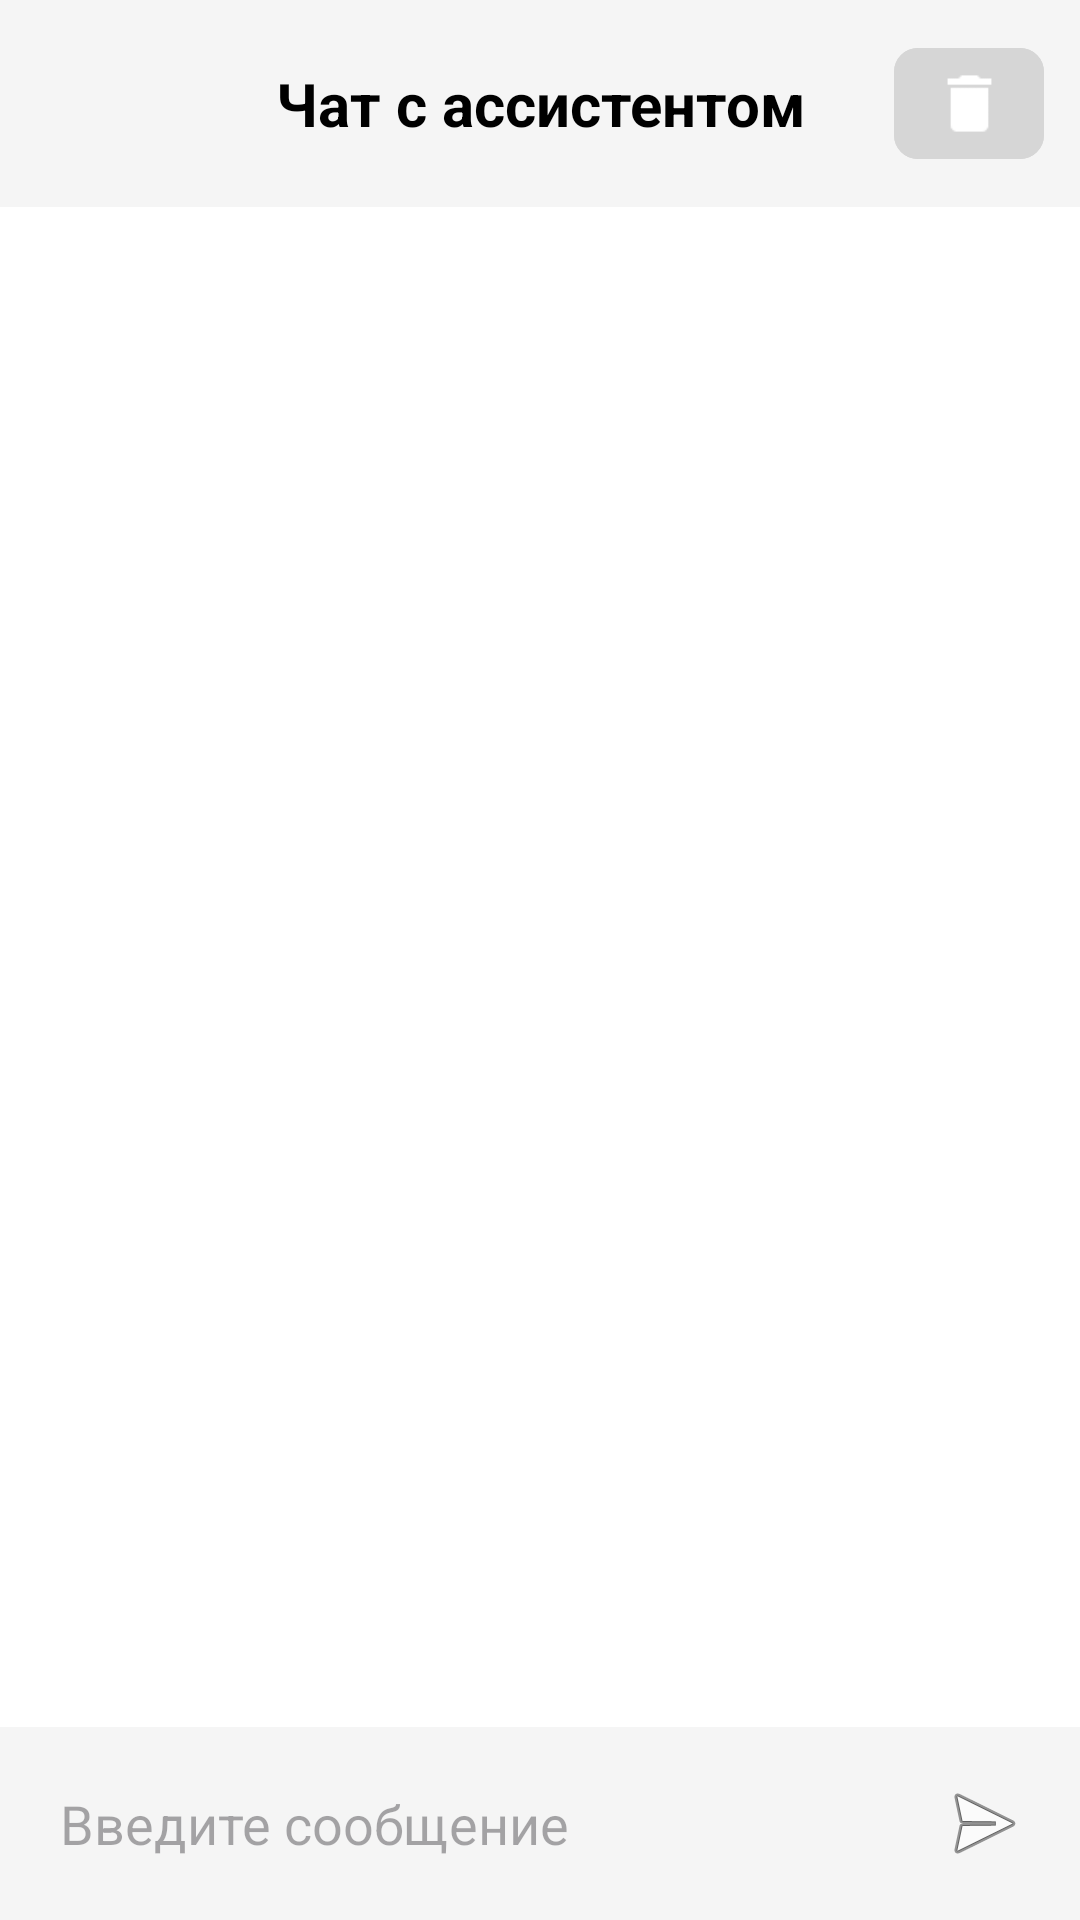

Where to tap for icons on this 1080px x 1920px app screen, as (x,y):
delete: (969,103)
Отправить: (985,1823)
